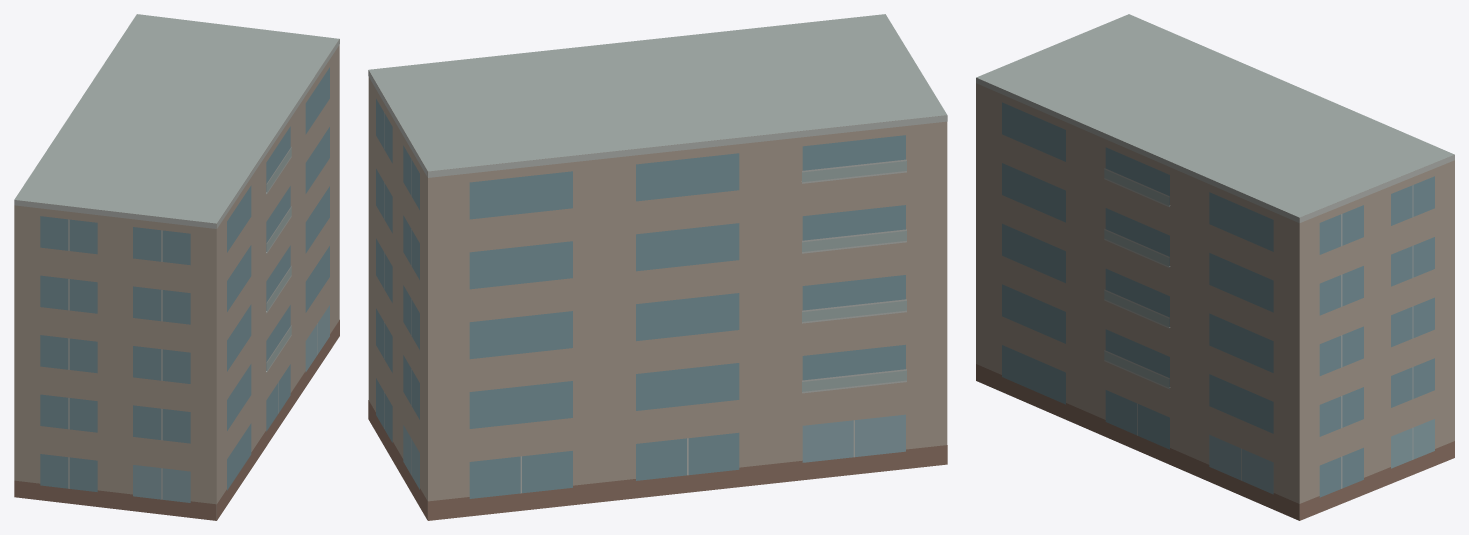
File: survey-upis-32928757.glb
The picture shows the model from 3 angles, left to right: view 1: azimuth 30°, elevation 25°; view 2: azimuth 150°, elevation 25°; view 3: azimuth 270°, elevation 25°; orthographic projection. The views are drawn at different scales.
Visible parts, largest first — view 1: survey-upis-32928757.tmp; view 2: survey-upis-32928757.tmp; view 3: survey-upis-32928757.tmp.
Part boxes in pixels (x1,y1,x2,y2): survey-upis-32928757.tmp: (14,14,339,520); survey-upis-32928757.tmp: (368,14,947,520); survey-upis-32928757.tmp: (976,14,1454,520).
Bounding box in the file's own units: 19.02 × 13.2 × 18.9.
